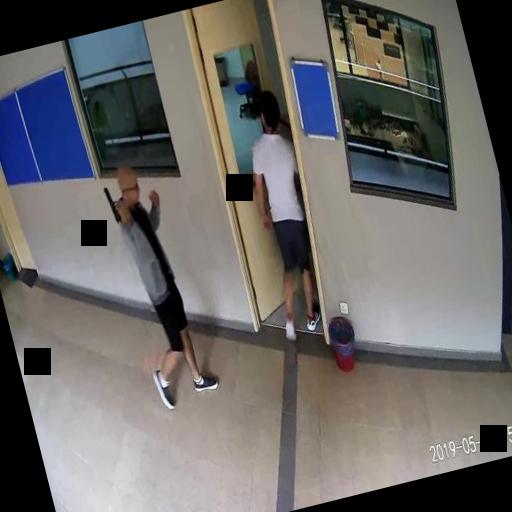Handgun: (102, 181, 128, 224)
